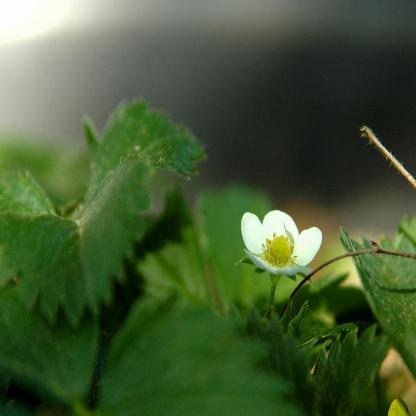aphid: (280, 219, 297, 248)
